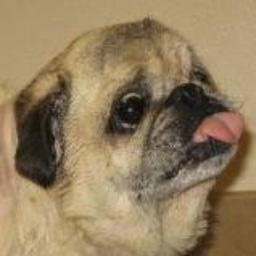dog: (1, 10, 248, 256)
